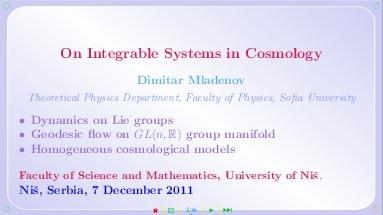paragraph: (14, 72, 358, 200)
title: (54, 39, 327, 67)
